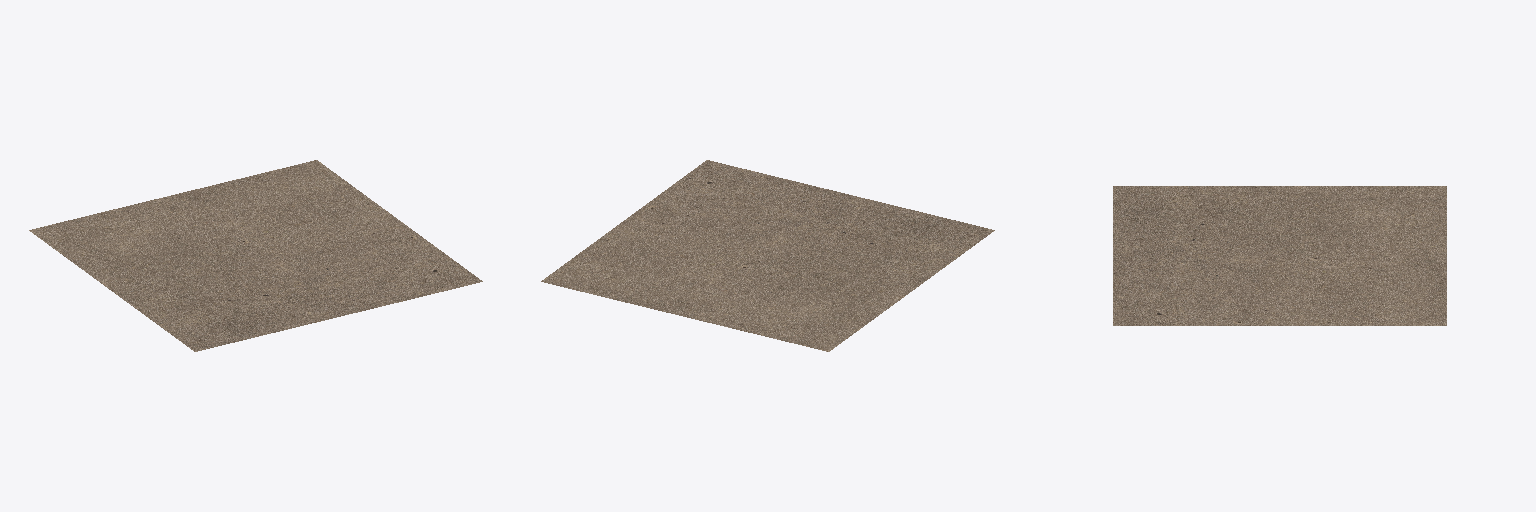
The picture shows the model from 3 angles: view 1: azimuth 30°, elevation 25°; view 2: azimuth 150°, elevation 25°; view 3: azimuth 270°, elevation 25°; orthographic projection.
Parts seen in each view (by area): view 1: 平面; view 2: 平面; view 3: 平面.
Boxes of the visible parts, <box> form: 平面: <box>29,160,482,351</box>; 平面: <box>541,160,994,351</box>; 平面: <box>1113,186,1446,325</box>.
Size of the model in its own units: 2 by 0 by 2.
Materials: 1 (1 with a texture image).